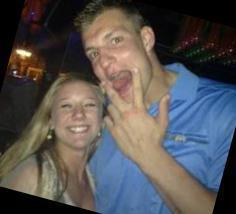Drunk: (83, 18, 148, 103), (56, 82, 100, 145)
